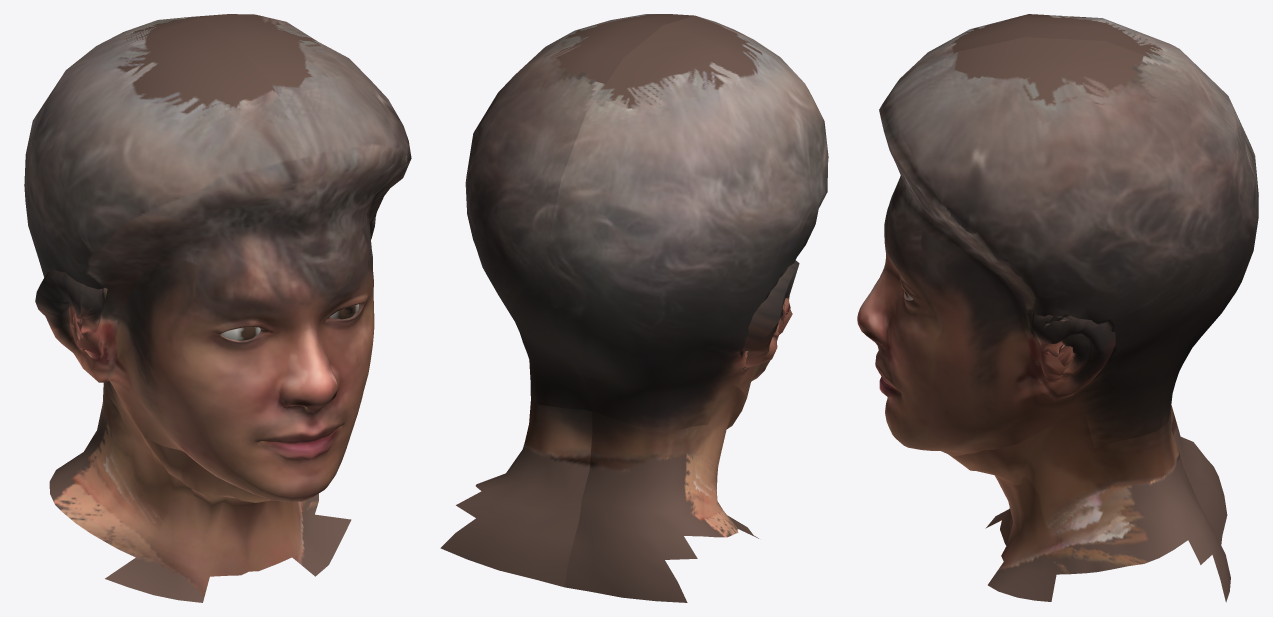
Rendered from head.glb.
The picture shows the model from 3 angles, left to right: view 1: azimuth 30°, elevation 25°; view 2: azimuth 150°, elevation 25°; view 3: azimuth 270°, elevation 25°; orthographic projection. The views are drawn at different scales.
Visible parts, largest first — view 1: head; view 2: head; view 3: head.
Boxes of the visible parts, left/top/right/bottom form: head: left=24, top=14, right=411, bottom=602; head: left=440, top=14, right=828, bottom=602; head: left=857, top=14, right=1258, bottom=602.
Bounding box in the file's own units: 0.285 × 0.4382 × 0.3066.
Materials: 6 (1 with a texture image).
